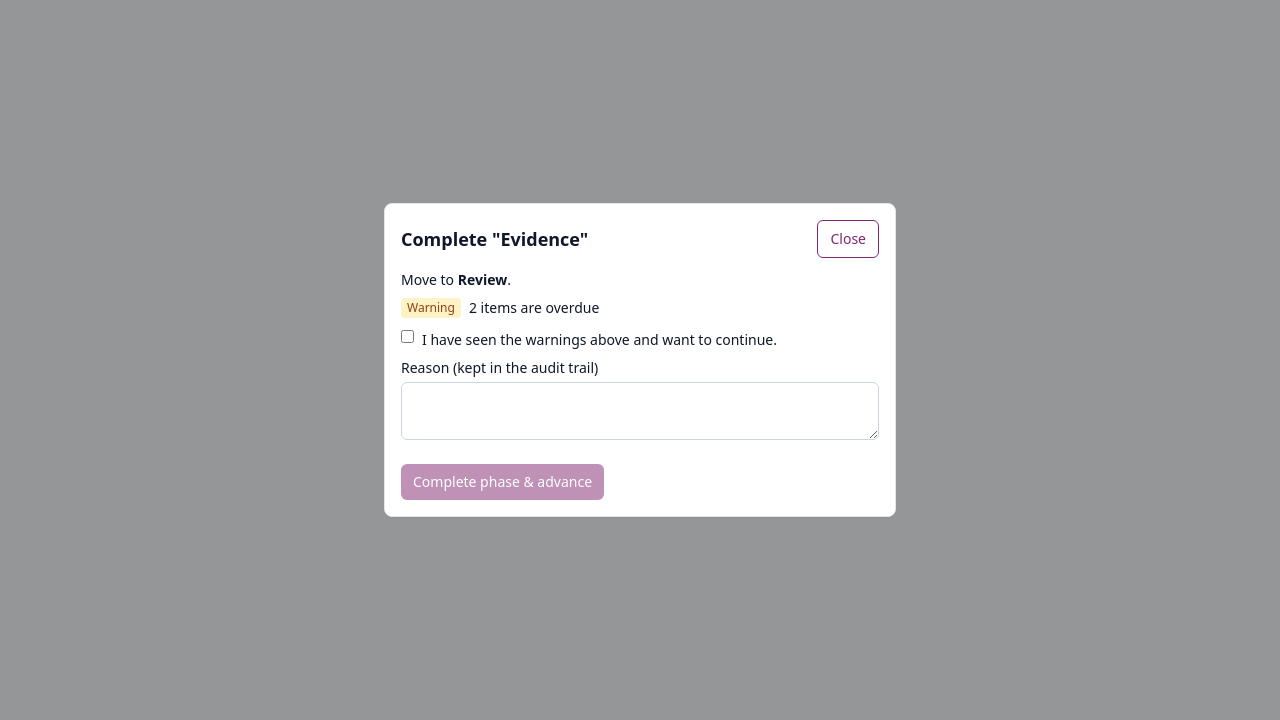
Test case: a warning needs a tick and a reason before the phase can advance, and both are sent
The width and height of the screenshot is (1280, 720).
Later steps or results of the test are not shown.
Expected: the text "2 items are overdue" is shown, [469,298,599,318]
Expected: the button "Complete phase & advance" is disabled, [401,464,604,500]
Step 1. Click the checkbox → (408, 336), box [401,330,414,343]
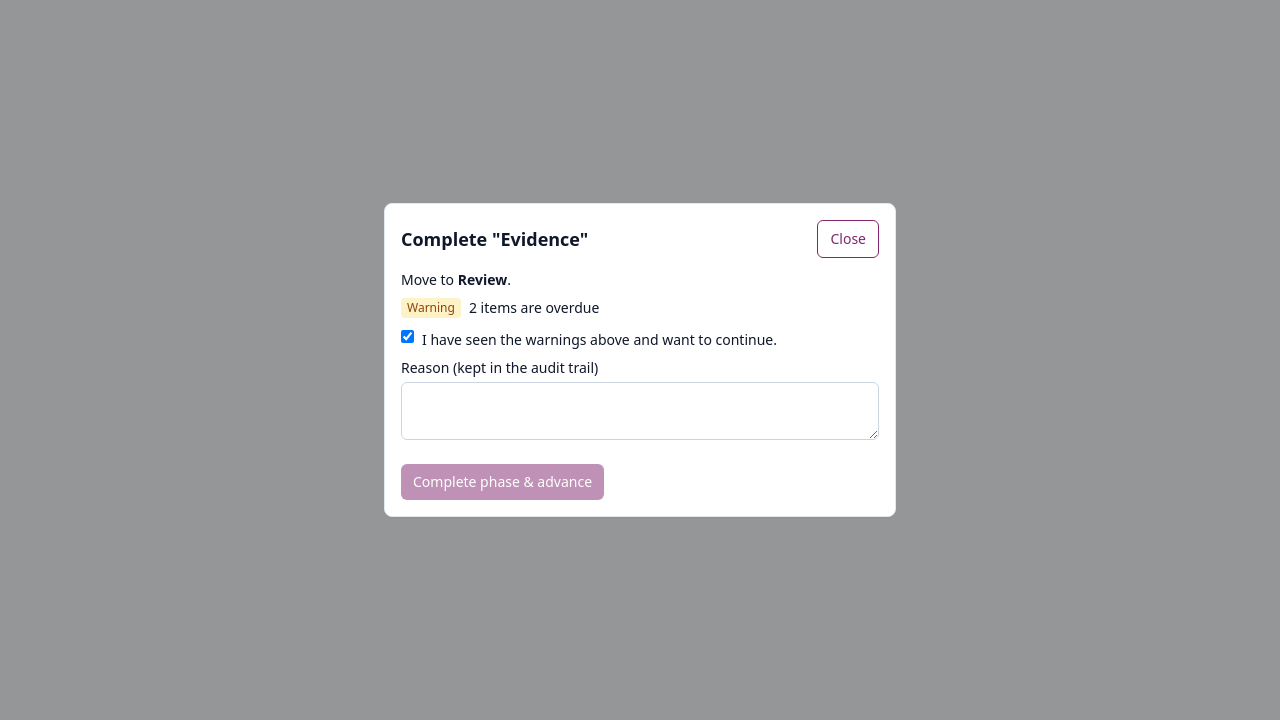
Step 2. Type "Agreed with client" into the text box → (640, 411), box [401,382,879,440]
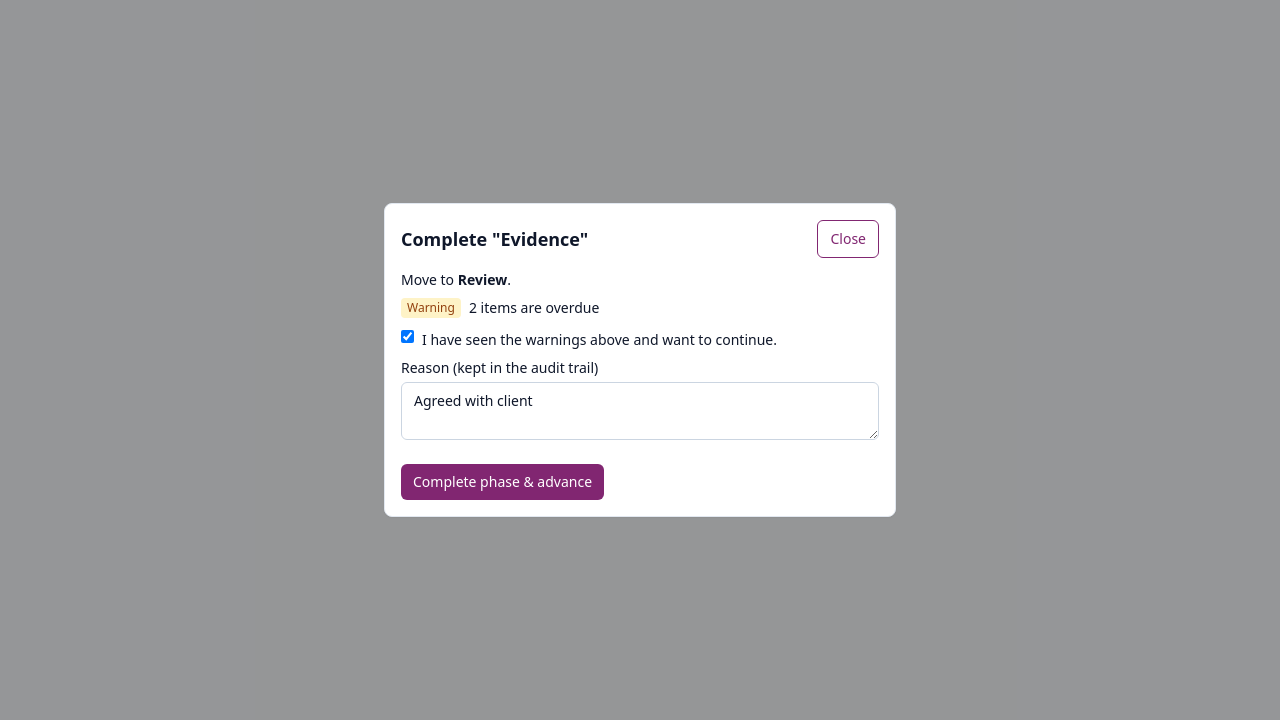
Expected: the button "Complete phase & advance" is enabled, [401,464,604,500]
